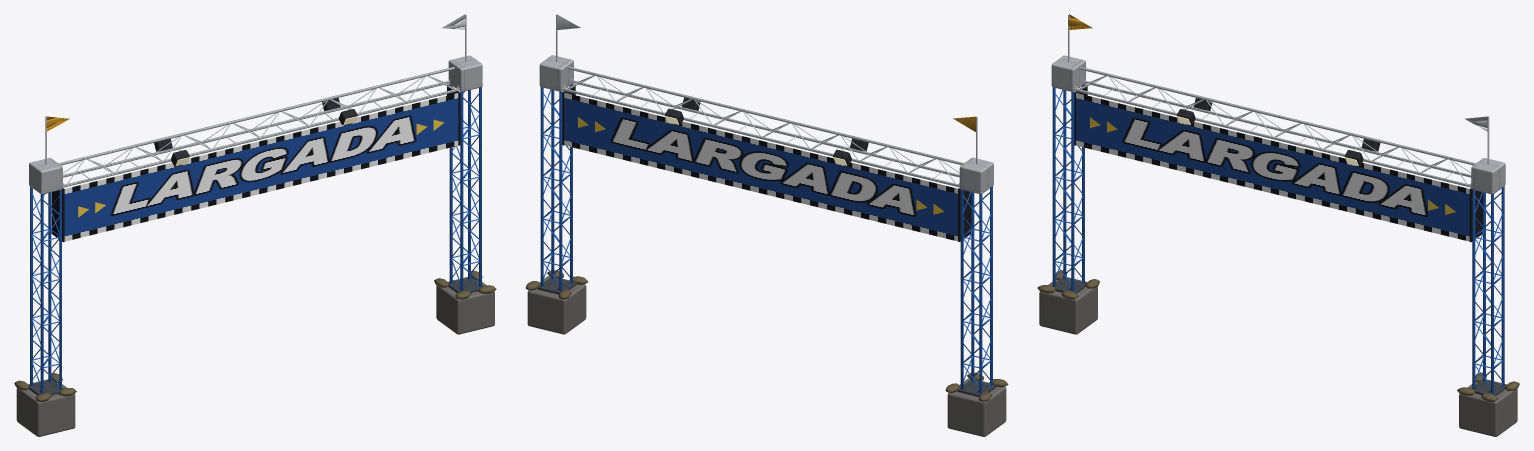
The model's file is portico_de_largada.glb.
The picture shows the model from 3 angles, left to right: view 1: azimuth 30°, elevation 25°; view 2: azimuth 150°, elevation 25°; view 3: azimuth 330°, elevation 25°; orthographic projection.
Visible parts, largest first — view 1: portico_de_largada, portico_de_largada_liso; view 2: portico_de_largada, portico_de_largada_liso; view 3: portico_de_largada, portico_de_largada_liso.
Part boxes in pixels (box(x1,y1,x2,y2)): portico_de_largada: box(14, 14, 496, 401); portico_de_largada_liso: box(16, 15, 494, 436); portico_de_largada: box(525, 14, 1008, 402); portico_de_largada_liso: box(527, 14, 1006, 436); portico_de_largada: box(1037, 14, 1519, 401); portico_de_largada_liso: box(1039, 15, 1517, 436).
Bounding box in the file's own units: 11.49 × 7.32 × 1.12.
6 materials, 3 textured.
